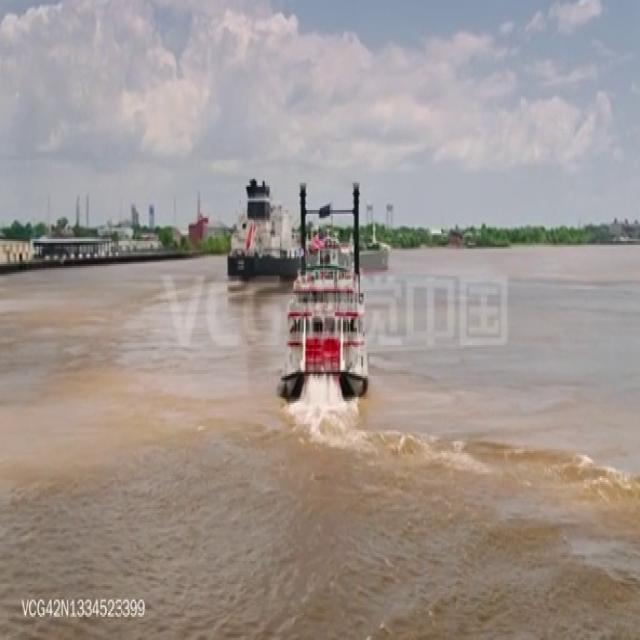cargoship: (222, 178, 385, 281)
passenger ship: (277, 213, 366, 400)
